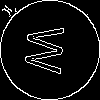W: (25, 25, 74, 75)
